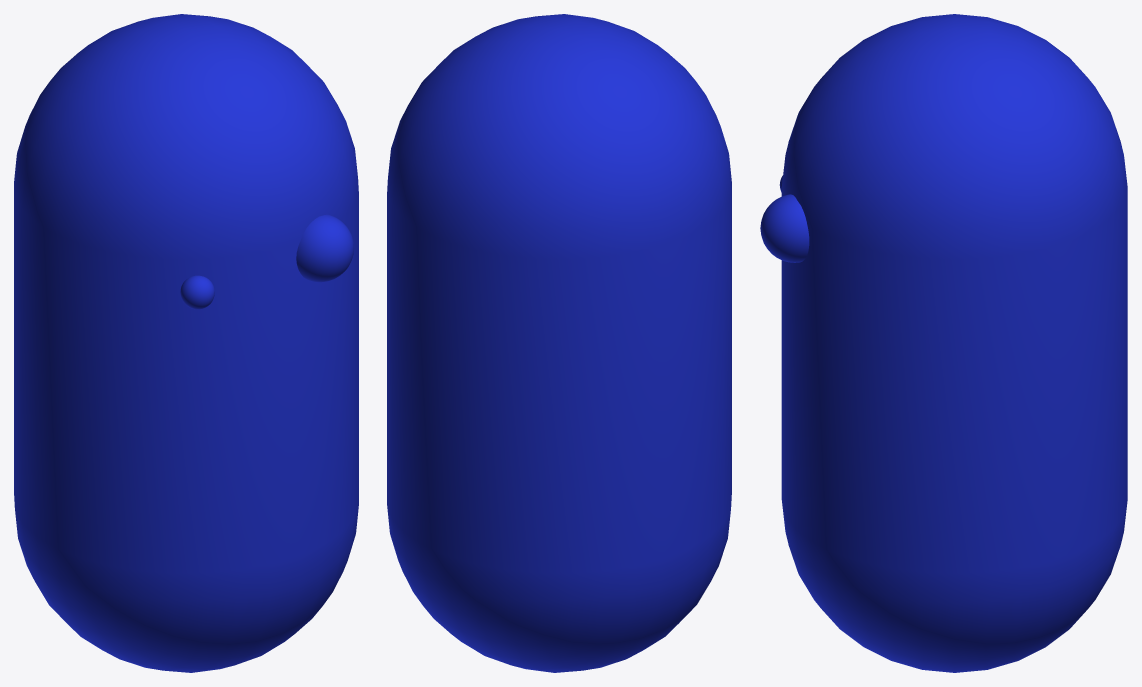
File: animator.fbx
3 renders of one model, left to right at view 1: azimuth 30°, elevation 25°; view 2: azimuth 150°, elevation 25°; view 3: azimuth 270°, elevation 25°, orthographic.
Parts seen in each view (by area): view 1: animator, eye (1), eye; view 2: animator; view 3: animator, eye (1).
Boxes of the visible parts, x1,y1,x2,y2 form: animator: [14, 14, 358, 672]; eye (1): [296, 214, 353, 282]; eye: [180, 275, 214, 309]; animator: [387, 14, 731, 672]; animator: [781, 14, 1127, 672]; eye (1): [760, 194, 809, 262].
Size of the model in its own units: 100 by 200 by 106.
